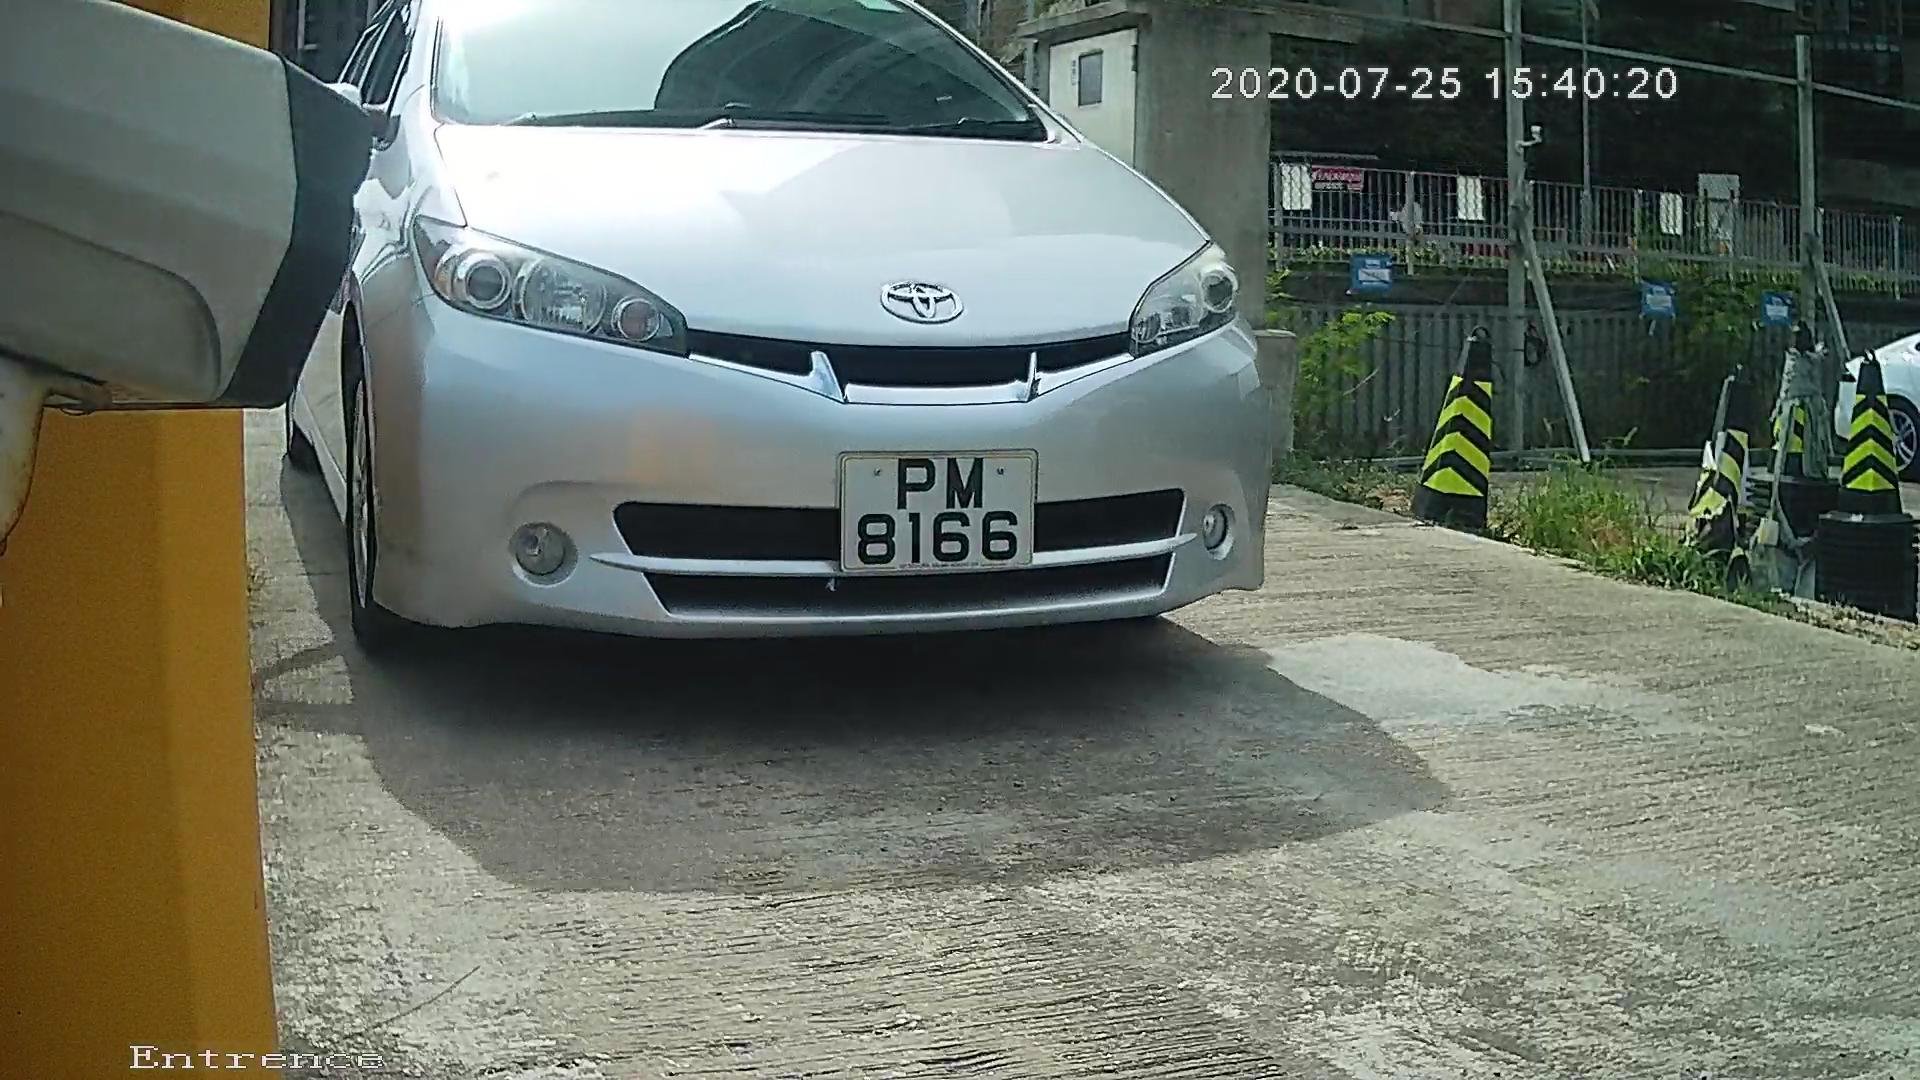License Plate: (815, 434, 1063, 584)
